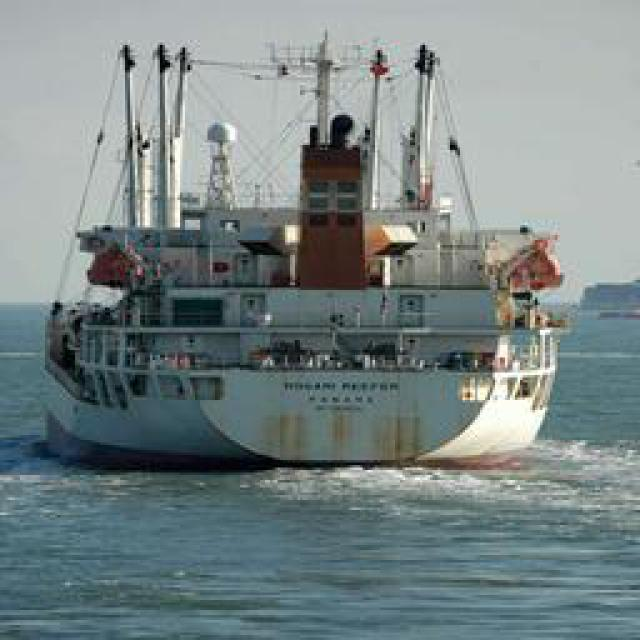Ship: (47, 24, 567, 477)
